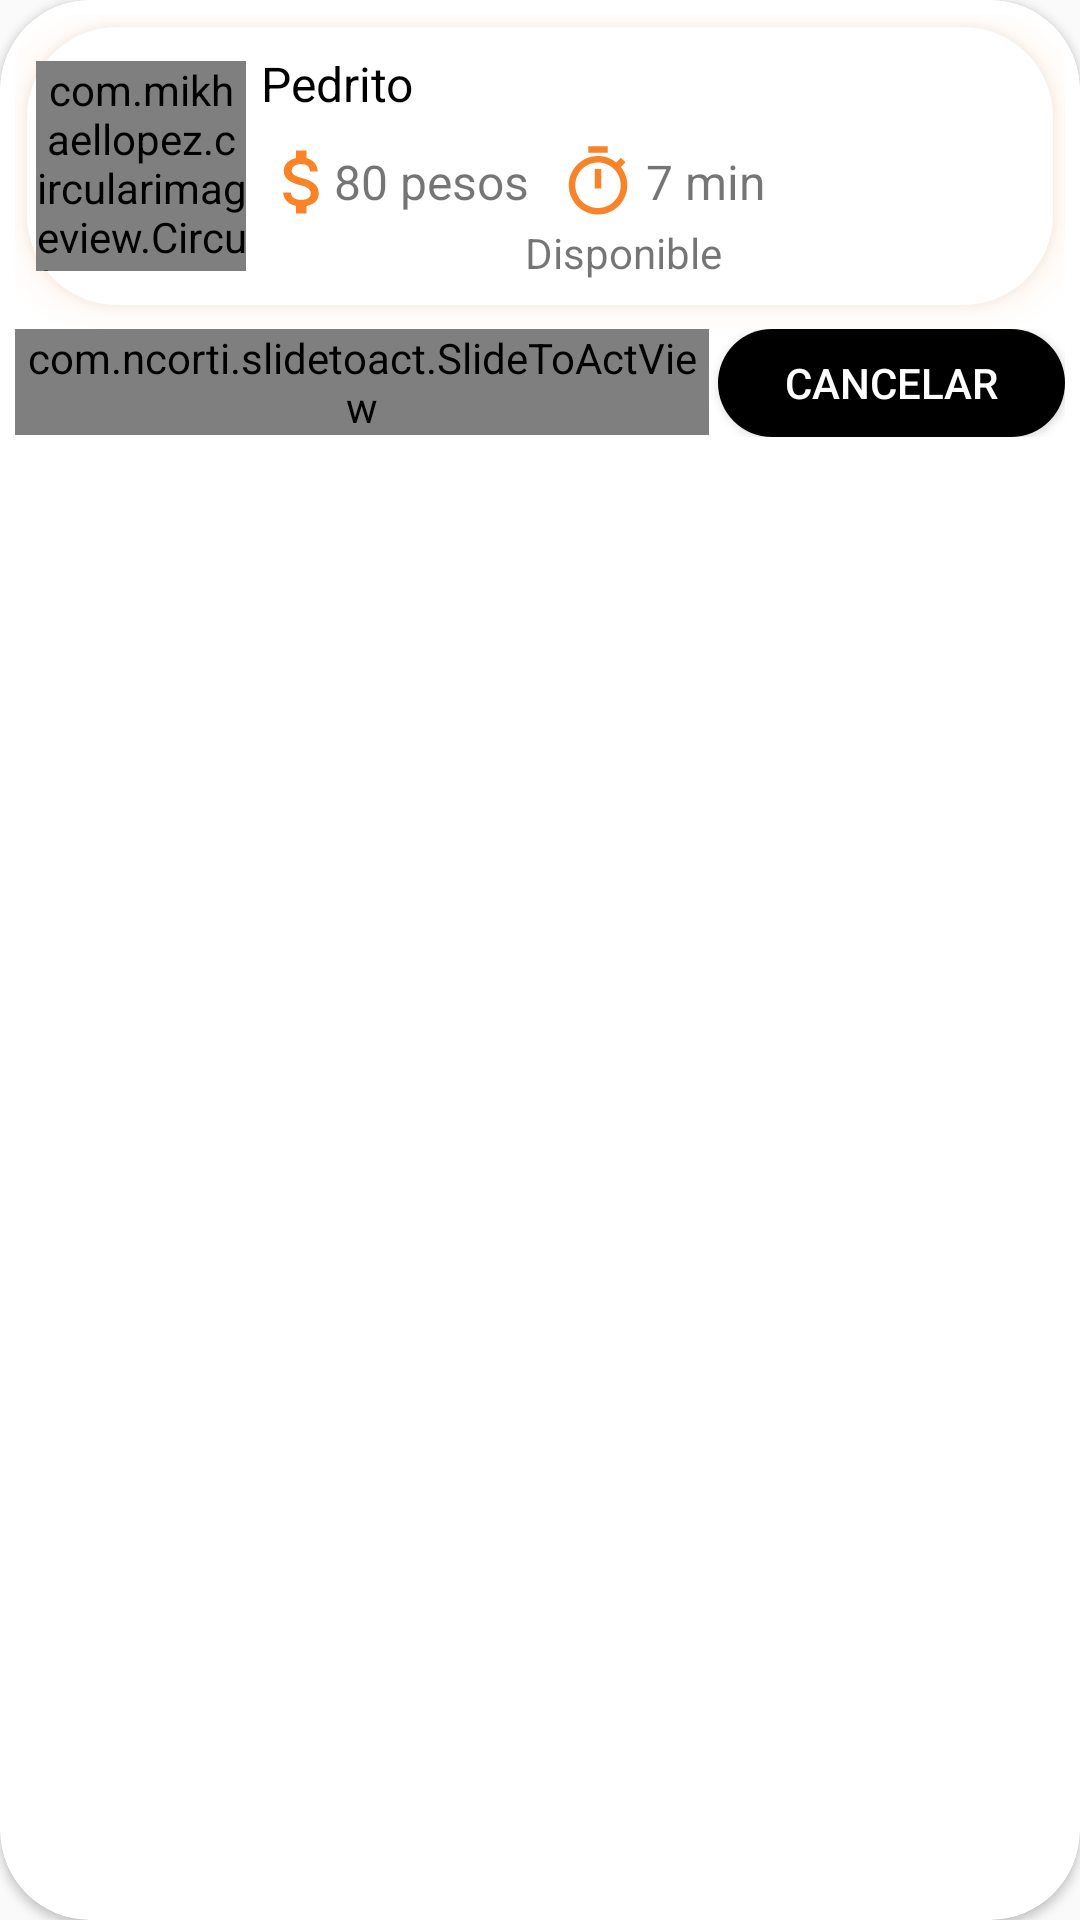

Icon bounding boxes for this 1080w x 1920h phone screenshot, format bbox=(x1, y1, x2, y2):
attach money: bbox=(283, 150, 319, 214)
timer: bbox=(568, 146, 628, 215)
